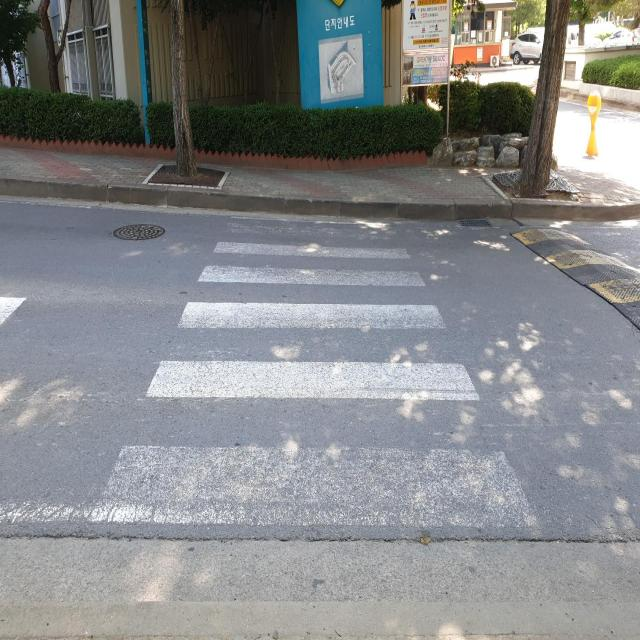횡단보도: (98, 218, 540, 530)
